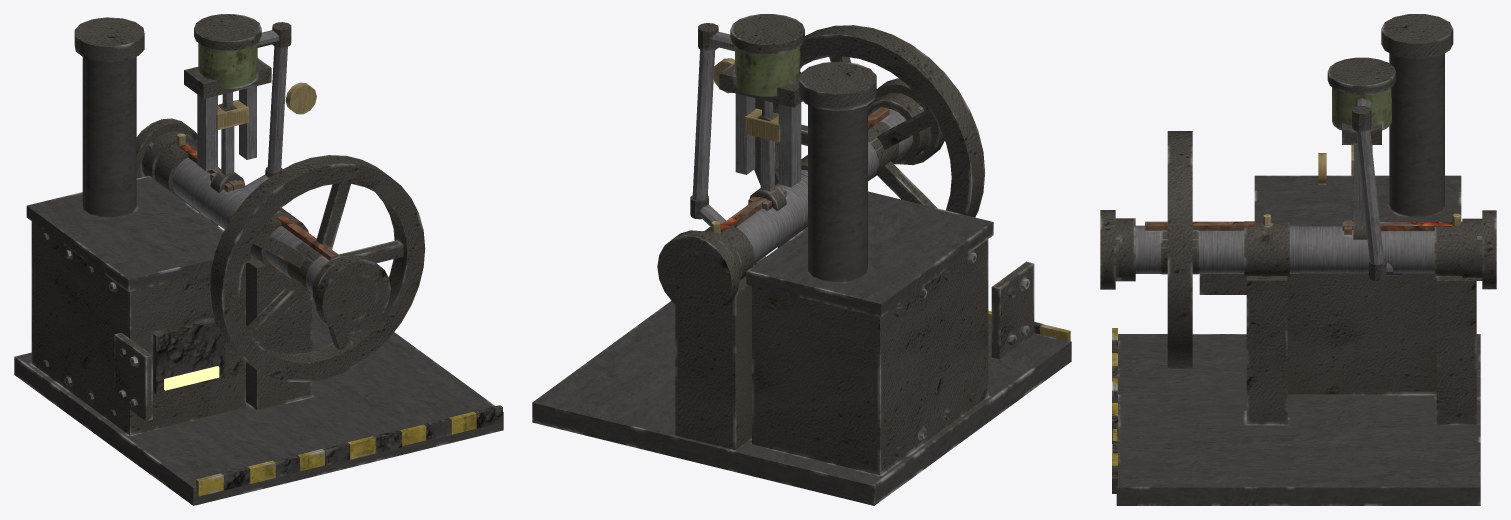
The model's file is feCoalEngine_HD.fbx.
3 views of the same model, side by side, from view 1: azimuth 30°, elevation 25°; view 2: azimuth 150°, elevation 25°; view 3: azimuth 270°, elevation 25° (orthographic). The views are drawn at different scales.
Parts seen in each view (by area): view 1: feCoalEngine_Base, FeSpin_EngineCrank, FeConrod_1, FeCrosshead_1; view 2: feCoalEngine_Base, FeSpin_EngineCrank, FeConrod_1, FeCrosshead_1; view 3: feCoalEngine_Base, FeSpin_EngineCrank.
Part boxes in pixels (box(x1,y1,x2,y2)): feCoalEngine_Base: box(14, 14, 503, 505); FeSpin_EngineCrank: box(136, 118, 425, 382); FeConrod_1: box(210, 103, 245, 192); FeCrosshead_1: box(216, 92, 248, 130); feCoalEngine_Base: box(532, 14, 1071, 505); FeSpin_EngineCrank: box(657, 25, 985, 315); FeConrod_1: box(749, 112, 786, 211); FeCrosshead_1: box(744, 100, 780, 142); feCoalEngine_Base: box(1112, 14, 1480, 505); FeSpin_EngineCrank: box(1100, 131, 1496, 368).
Bounding box in the file's own units: 0.952 × 0.9974 × 1.
2 materials, 1 textured.
